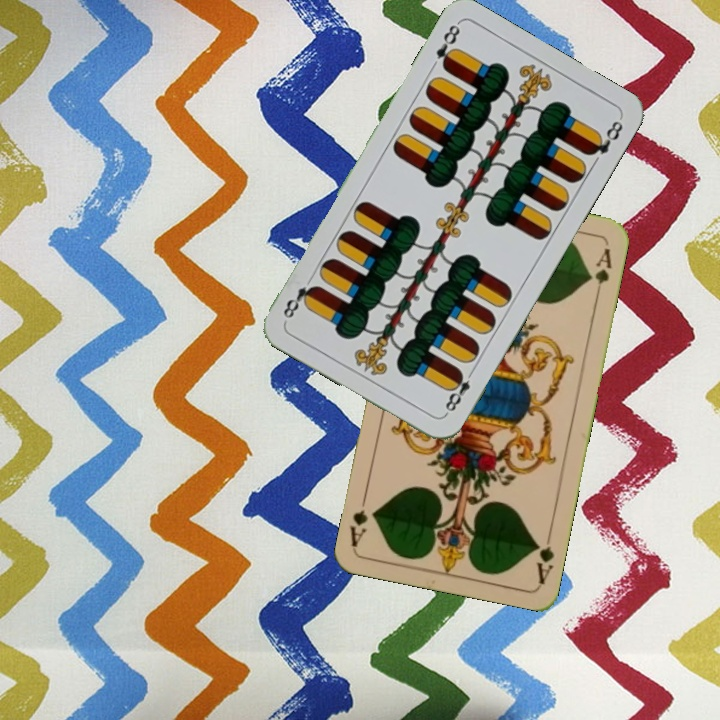E8: (440, 364, 478, 418), (432, 19, 463, 73)
GA: (531, 526, 557, 586)
